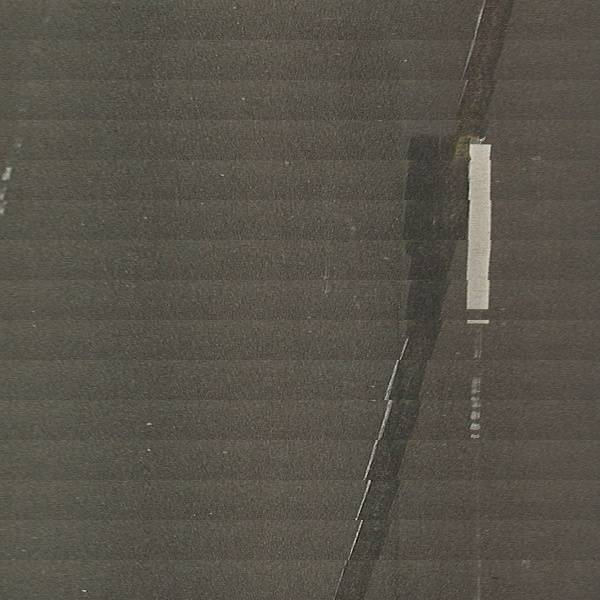road_damage: (331, 307, 447, 600)
